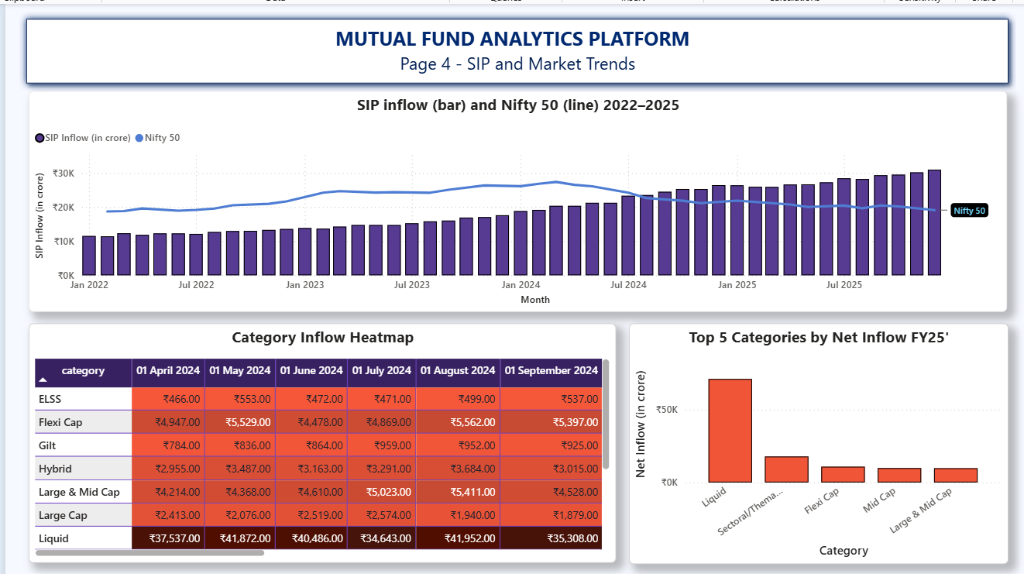

The dashboard page shown, as its layout file describes it:
{"tool":"powerbi","page":{"name":"SIP & Market Trends","canvas":[1280,720],"ordinal":3},"visuals":[{"type":"lineStackedColumnComboChart","title":"SIP inflow (bar) and  Nifty 50 (line) 2022–2025","fields":{"Category":["04_monthly_sip_inflows.month"],"Y":["Sum(04_monthly_sip_inflows.sip_inflow_crore)"],"Y2":["Sum(10_benchmark_indices.close_value)"]},"box":[29,108.7,1218.8,275.4],"z":0},{"type":"pivotTable","title":"Category Inflow Heatmap","fields":{"Columns":["05_category_inflows.month"],"Rows":["05_category_inflows.category"],"Values":["Sum(05_category_inflows.net_inflow_crore)"]},"box":[29,398.6,731.9,298.6],"z":1000},{"type":"clusteredColumnChart","title":" Top 5 Categories by Net Inflow FY25''","fields":{"Category":["05_category_inflows.category"],"Y":["Sum(05_category_inflows.net_inflow_crore)"]},"box":[776.8,398.6,472.5,300],"z":2000},{"type":"shape","title":"industry","box":[17.4,10.1,1242,98.6],"z":3000},{"type":"textbox","box":[29,21.7,1218.8,87],"z":4000}]}

Visuals, with their boxes on the page's 1280x720 design canvas (x1, y1, x2, y2). These are canvas units, not pixel positions in the 1024x574 screenshot, which may show the page scaled, cropped or inside an application window:
"SIP inflow (bar) and  Nifty 50 (line) 2022–2025" lineStackedColumnComboChart: (29, 109, 1248, 384)
"Category Inflow Heatmap" pivotTable: (29, 399, 761, 697)
" Top 5 Categories by Net Inflow FY25''" clusteredColumnChart: (777, 399, 1249, 699)
"industry" shape: (17, 10, 1259, 109)
textbox: (29, 22, 1248, 109)
